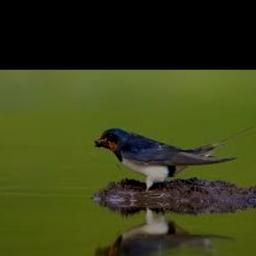Swallow: (95, 127, 256, 192)
